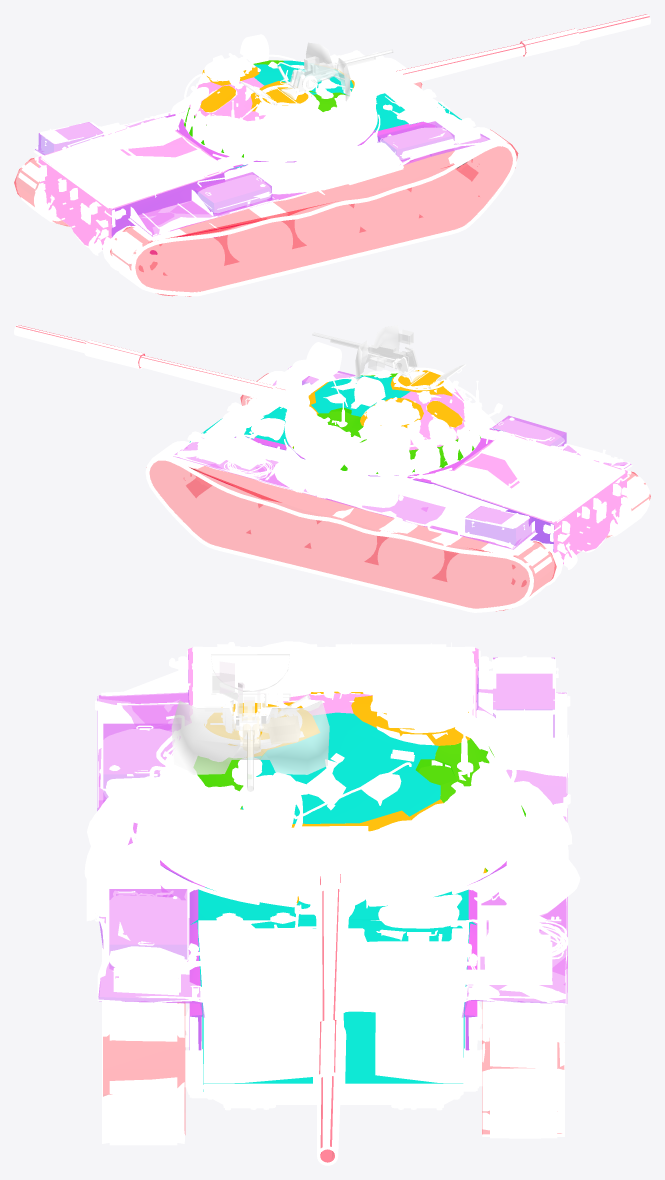
The picture shows the model from 3 angles, top to bottom: view 1: azimuth 30°, elevation 25°; view 2: azimuth 150°, elevation 25°; view 3: azimuth 270°, elevation 25°; orthographic projection. The views are drawn at different scales.
Parts seen in each view (by area): view 1: 12001, T62_track_right_col_26, 12001_2, 12001_6, T62_Sideskirt_Col_17, 12001_4, 12001_7, T62_Col001, T62_Col001_1, Dshk_Cupola_Gun_Col_38, T62_Turret_Col001_2, T62_Turret_Col001_3 (+9 smaller); view 2: 12001, T62_track_left_col_23, 12001_1, 12001_6, T62_Sideskirt_Col_17, 12001_7, 12001_4, T62_Col001, Dshk_Cupola_Gun_Col_38, 12001_5, T62_Turret_Col001_2, T62_Turret_Col001_4 (+8 smaller); view 3: 12001, 12001_6, T62_Sideskirt_Col_17, 12001_4, 12001_2, 12001_7, 12001_1, T62_Turret_Col001_4, Dshk_Cupola_Gun_Col_38, 12001_5, T62_Col001_2, T62_track_right_col_26 (+9 smaller).
Part boxes in pixels (box(x1,y1,x2,y2)): 12001: box(16, 68, 509, 290); T62_track_right_col_26: box(110, 129, 518, 296); 12001_2: box(111, 127, 516, 296); 12001_6: box(181, 34, 404, 162); T62_Sideskirt_Col_17: box(35, 113, 490, 236); 12001_4: box(170, 84, 430, 194); 12001_7: box(350, 14, 650, 99); T62_Col001: box(38, 118, 228, 249); T62_Col001_1: box(111, 111, 436, 254); Dshk_Cupola_Gun_Col_38: box(293, 42, 393, 101); T62_Turret_Col001_2: box(200, 66, 354, 112); T62_Turret_Col001_3: box(189, 77, 265, 124); 12001: box(153, 366, 649, 606); T62_track_left_col_23: box(150, 461, 556, 611); 12001_1: box(145, 441, 554, 612); 12001_6: box(284, 342, 502, 476); T62_Sideskirt_Col_17: box(173, 366, 631, 549); 12001_7: box(14, 325, 311, 409); 12001_4: box(204, 402, 495, 507); T62_Col001: box(436, 432, 627, 564); Dshk_Cupola_Gun_Col_38: box(312, 325, 418, 381); 12001_5: box(197, 366, 308, 469); T62_Turret_Col001_2: box(308, 370, 462, 427); T62_Turret_Col001_4: box(311, 375, 410, 416); 12001: box(86, 641, 570, 1110); 12001_6: box(142, 648, 526, 908); T62_Sideskirt_Col_17: box(97, 657, 567, 1017); 12001_4: box(84, 776, 580, 1012); 12001_2: box(102, 931, 184, 1145); 12001_7: box(292, 841, 366, 1165); 12001_1: box(482, 1001, 564, 1138); T62_Turret_Col001_4: box(241, 712, 440, 823); Dshk_Cupola_Gun_Col_38: box(171, 661, 329, 791); 12001_5: box(113, 907, 552, 996); T62_Col001_2: box(190, 887, 475, 1091); T62_track_right_col_26: box(103, 1003, 185, 1134).
Size of the model in its own units: 9.57 by 2.84 by 3.53.
